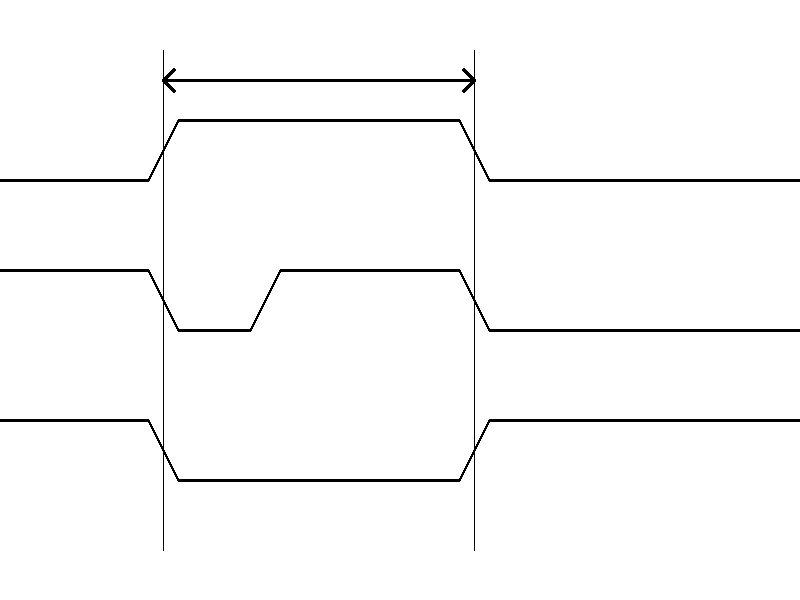double_arrow: (163, 65, 474, 95)
